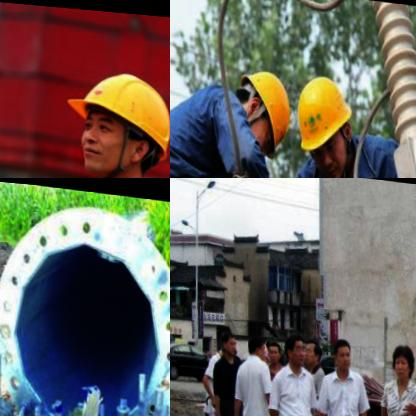helmet: (60, 48, 170, 178), (289, 61, 363, 178), (234, 55, 298, 155)
